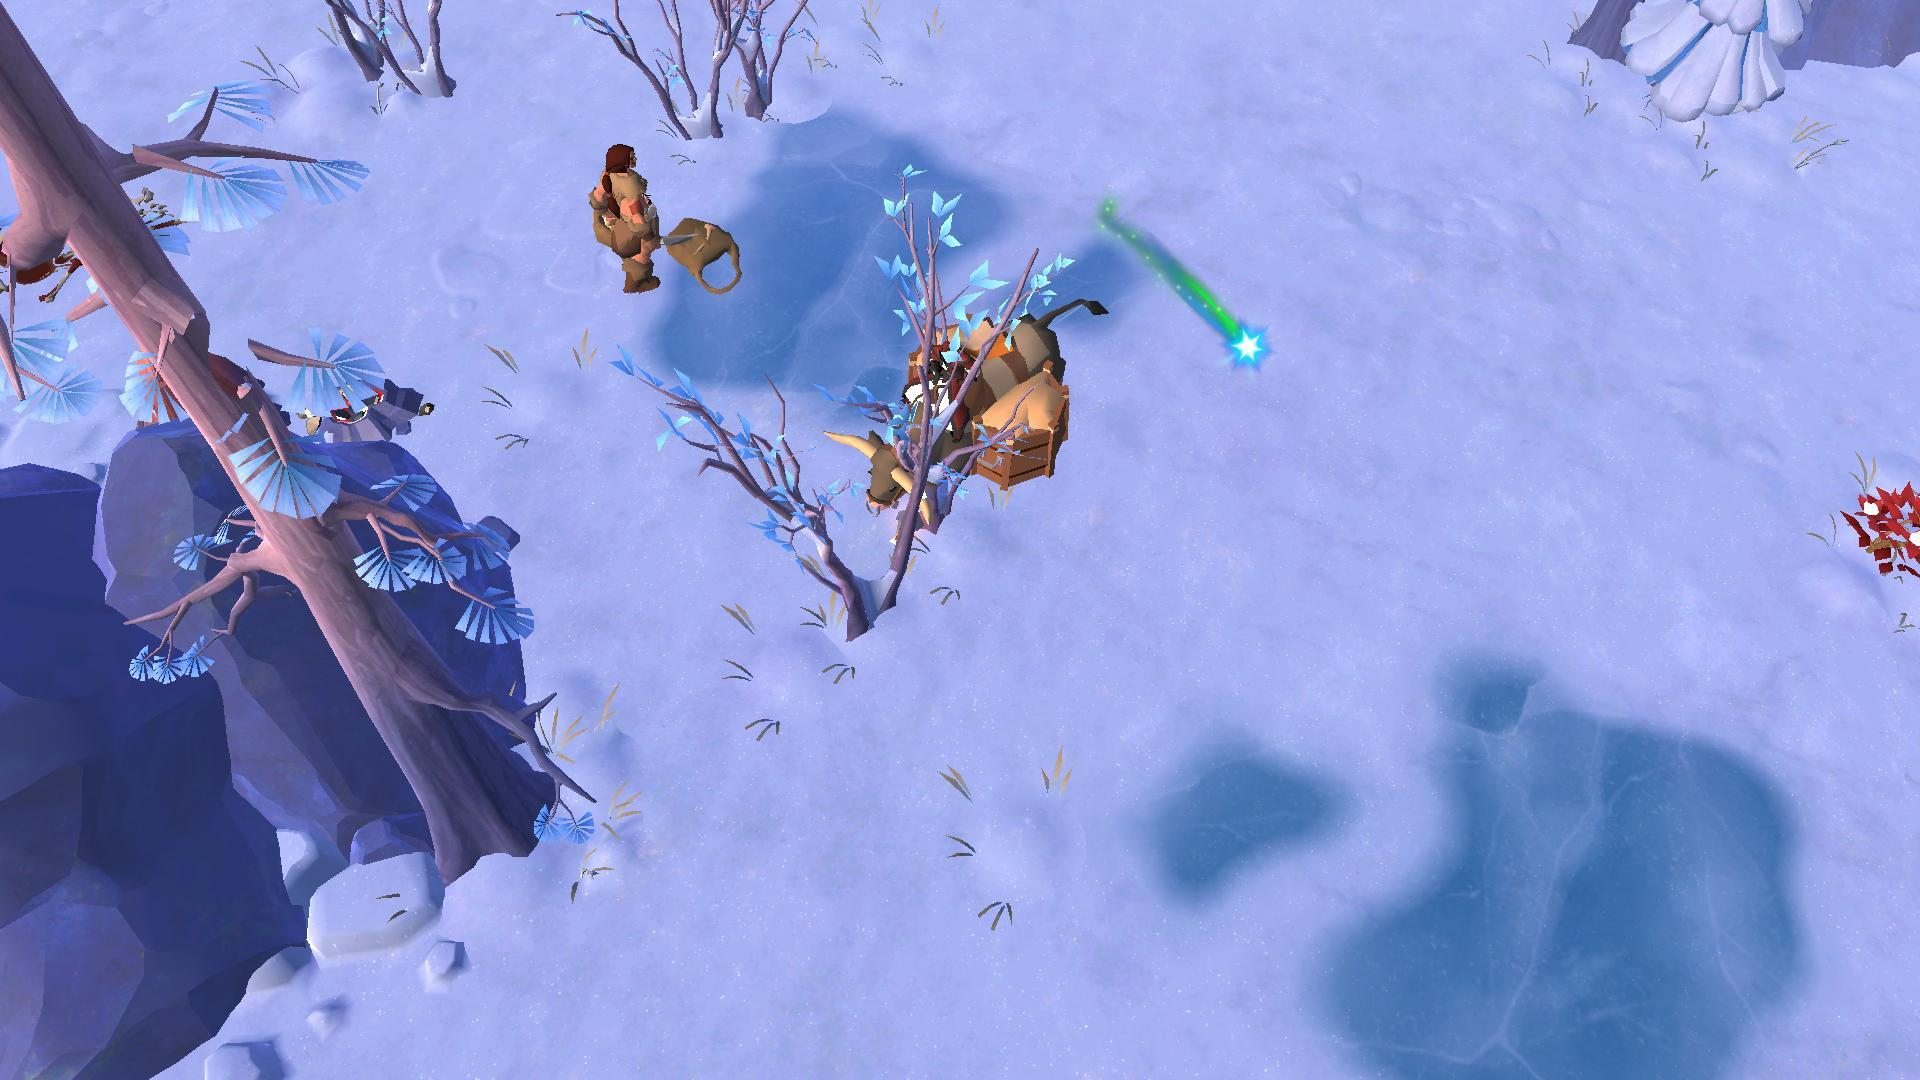enemy_factionKeeper: (582, 144, 674, 298)
fiber_t5: (1838, 477, 1920, 579)
